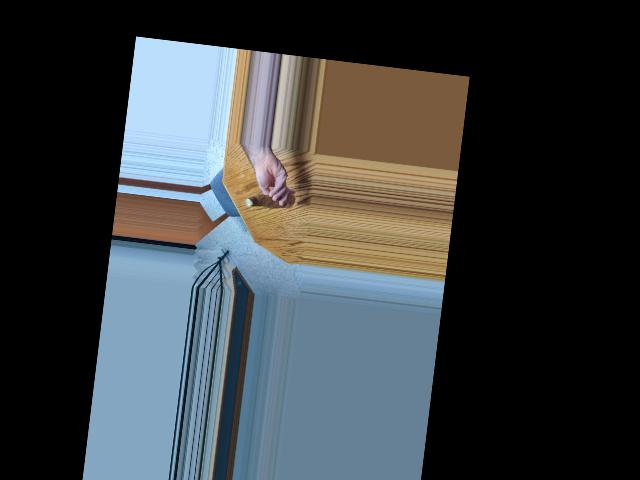sweet_potato: (240, 190, 295, 211)
